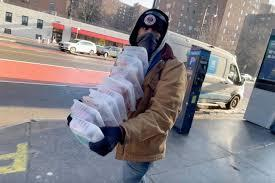Normal: (70, 4, 213, 173)
